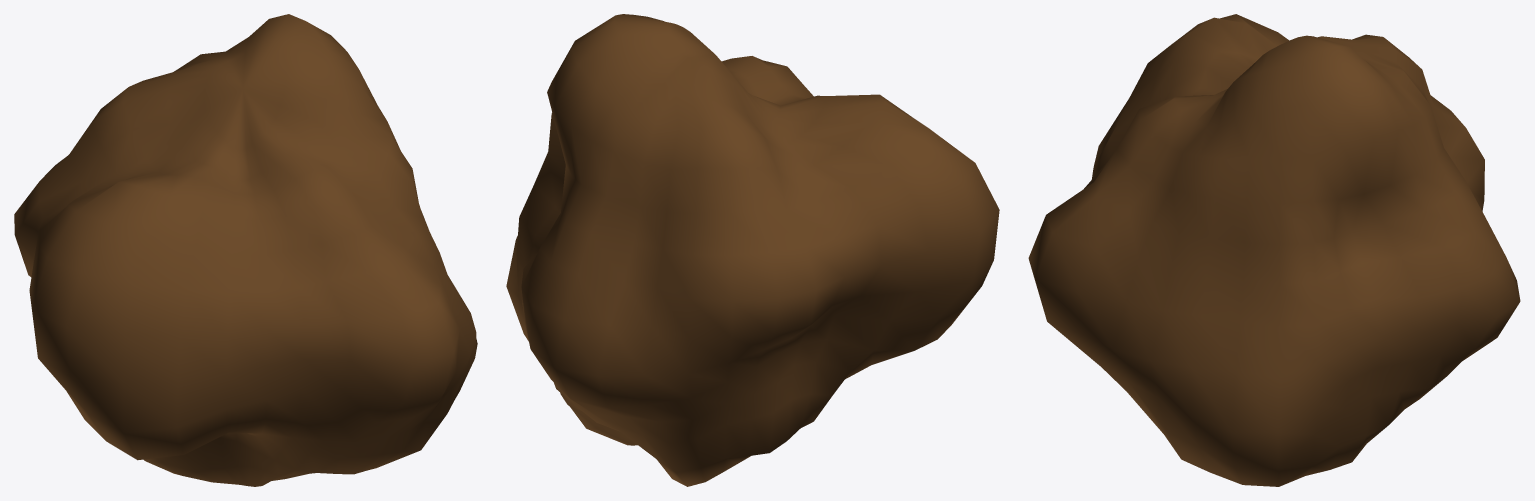
Rendered from Asteroids.fbx.
The picture shows the model from 3 angles, left to right: view 1: azimuth 30°, elevation 25°; view 2: azimuth 150°, elevation 25°; view 3: azimuth 270°, elevation 25°; orthographic projection.
Visible parts, largest first — view 1: Sphere; view 2: Sphere; view 3: Sphere.
Part boxes in pixels (x1,y1,x2,y2): Sphere: [14, 14, 477, 486]; Sphere: [506, 14, 999, 486]; Sphere: [1028, 14, 1520, 486].
Size of the model in its own units: 228 by 210 by 218.
